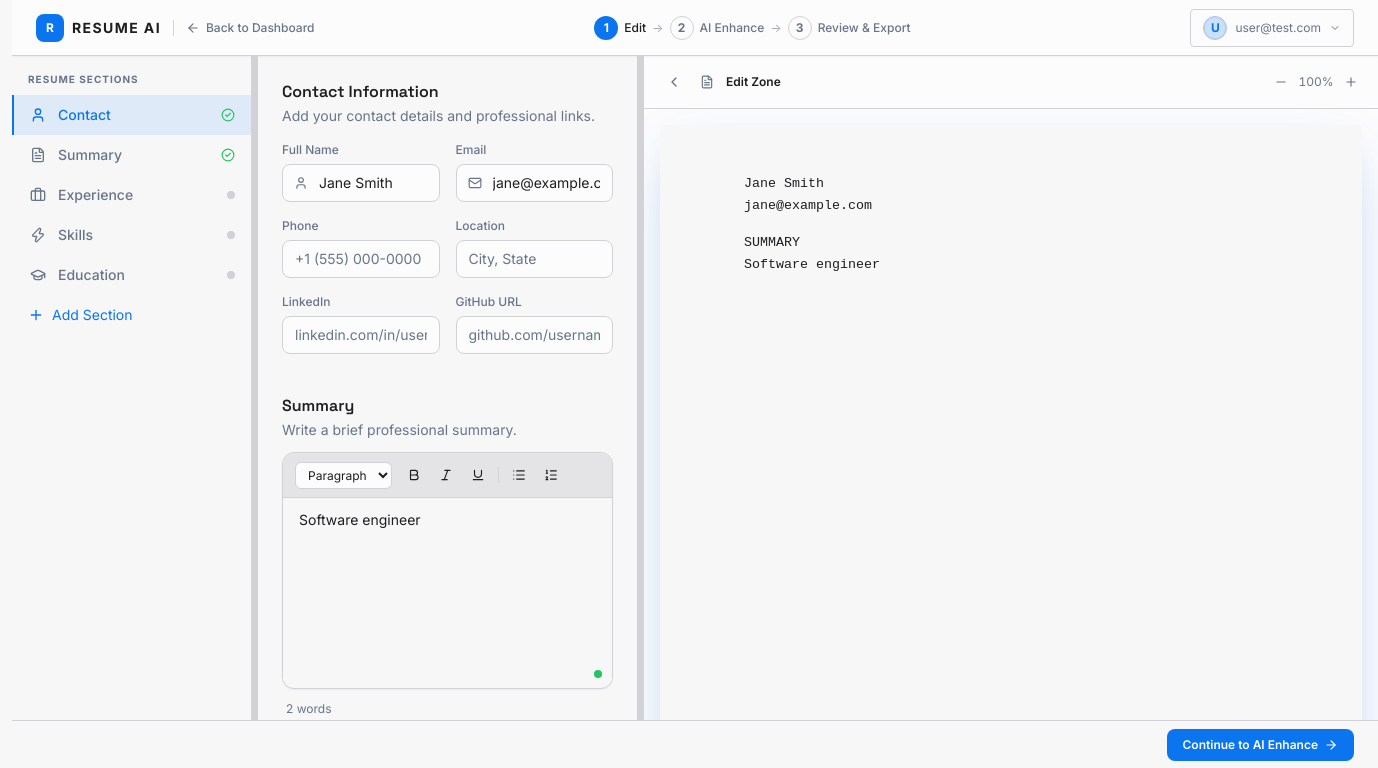
ResumeEditor — enrich with AI loading overlay › shows a cycling status message that advances after 1500ms
# Navigate to Step 2 where "Generate Improvements" button lives in the Resume Polish workspace
What coordinates should you click on to do the following:
click the button "Continue to AI Enhance"
I would click on:
 (1260, 744)
Its box is [1166,728,1354,760].
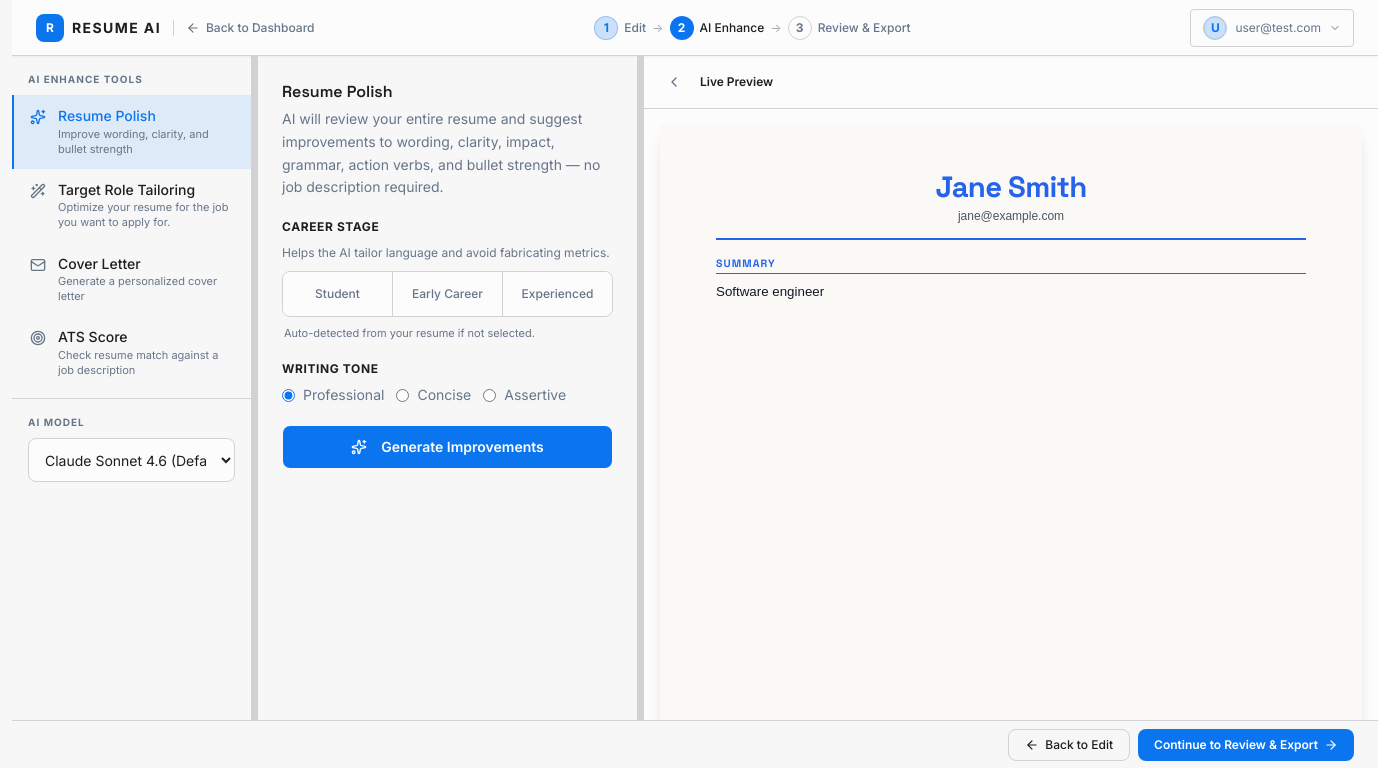
# Resume Polish is the default tool — "Generate Improvements" button is visible
What coordinates should you click on to do the following:
click the button "Generate Improvements"
I would click on:
 (448, 447)
Its box is [282,425,613,469].
Wait 1500 ms
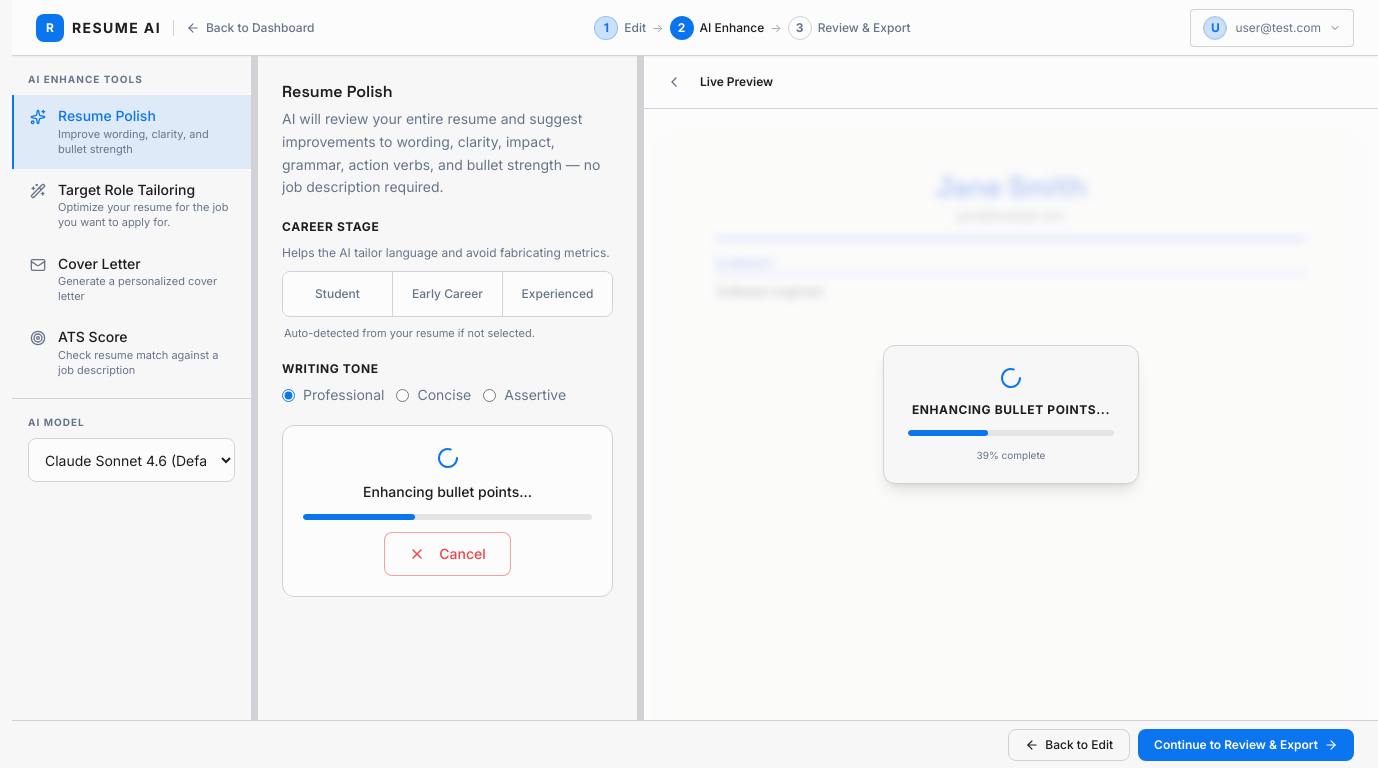
Expected: the text "Analyzing your resume..." below "Professional" is shown, [363,482,532,502]
Expected: the text "Enhancing bullet points..." below "Professional" is shown, [363,483,532,500]
